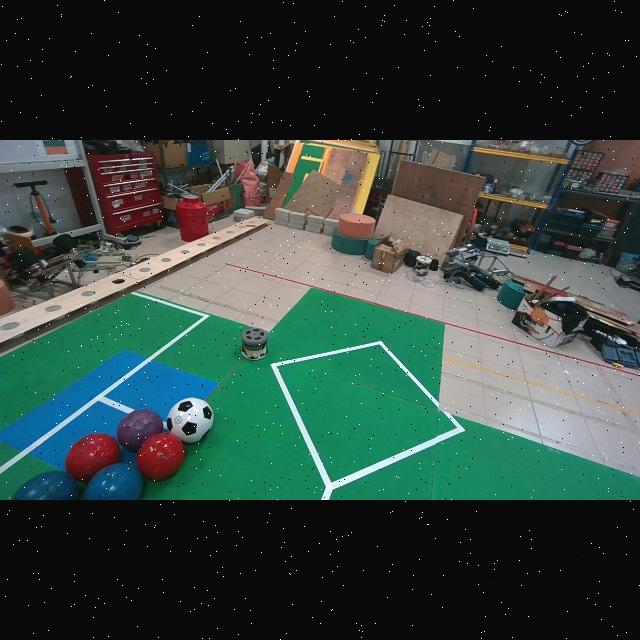B: (85, 463, 143, 500), (12, 470, 80, 500)
P: (116, 409, 163, 452)
R: (65, 434, 119, 482), (137, 433, 184, 480)
